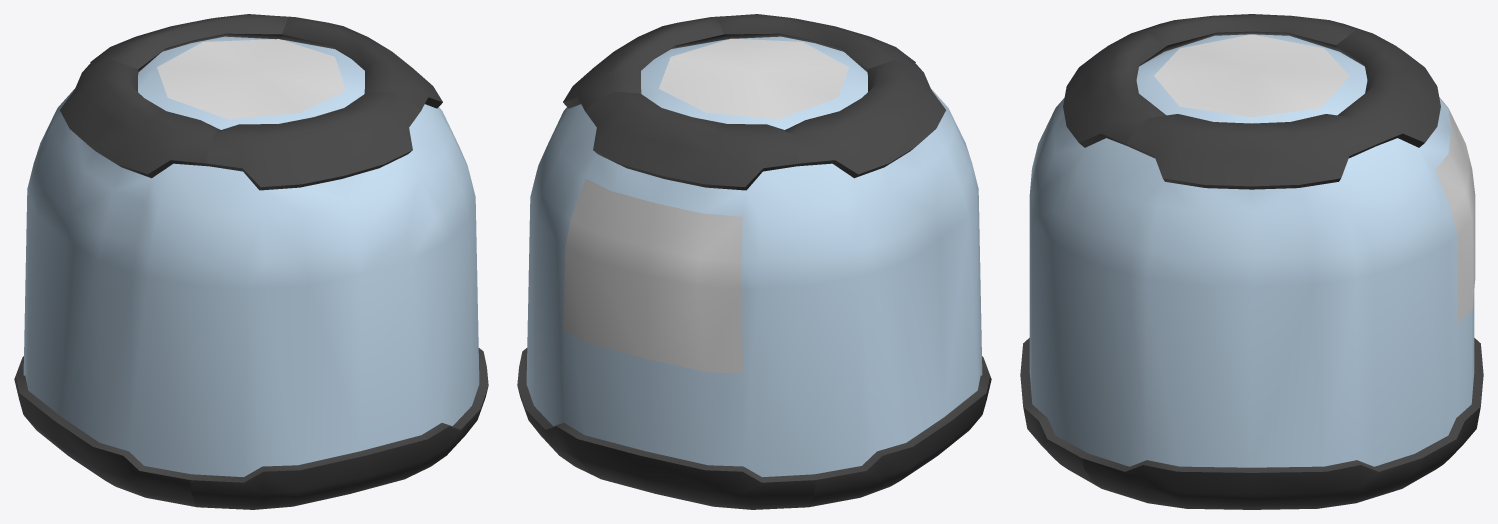
File: obj_characterobject_minerbotpackage.fbx
3 views of the same model, side by side, from view 1: azimuth 30°, elevation 25°; view 2: azimuth 150°, elevation 25°; view 3: azimuth 270°, elevation 25° (orthographic).
Parts seen in each view (by area): view 1: obj_characterobject_totebotpackage_empty.002; view 2: obj_characterobject_totebotpackage_empty.002; view 3: obj_characterobject_totebotpackage_empty.002.
Boxes of the visible parts, bbox=[...] form: obj_characterobject_totebotpackage_empty.002: bbox=[14, 14, 488, 509]; obj_characterobject_totebotpackage_empty.002: bbox=[517, 14, 991, 509]; obj_characterobject_totebotpackage_empty.002: bbox=[1020, 14, 1483, 509].
Bounding box in the file's own units: 13.93 × 12.02 × 13.93.
